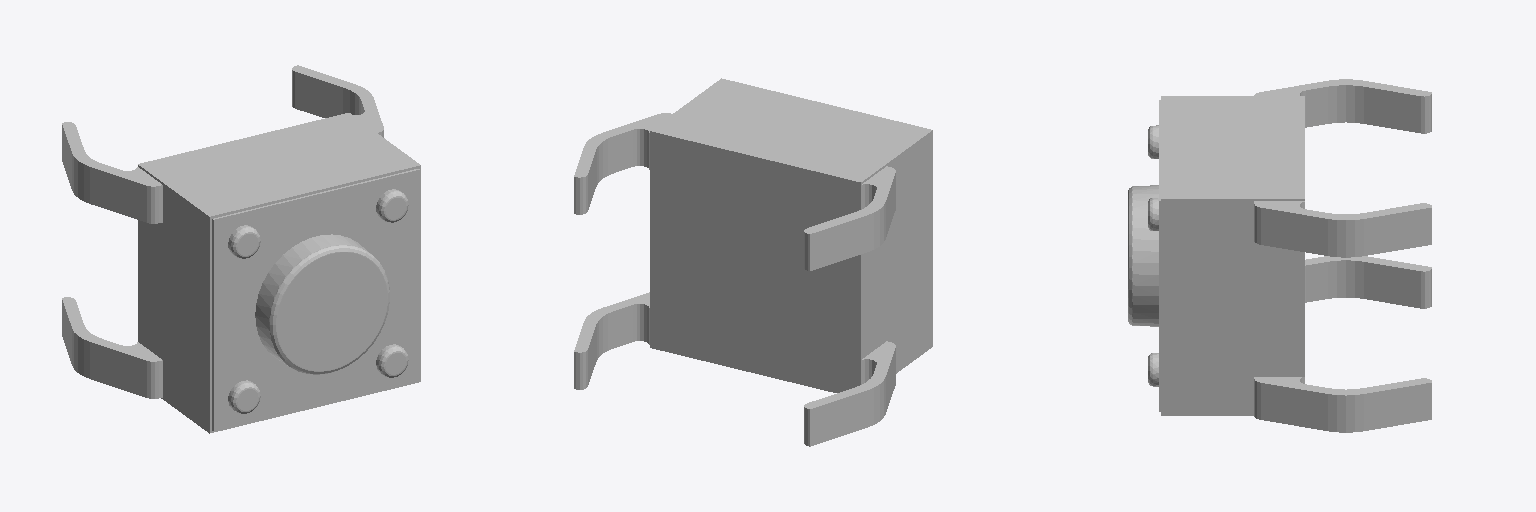
File: Tactal Switch -Thru (6mmx 6mmx4.5mm).obj
3 renders of one model, left to right at view 1: azimuth 30°, elevation 25°; view 2: azimuth 150°, elevation 25°; view 3: azimuth 270°, elevation 25°, orthographic.
Parts seen in each view (by area): view 1: Solid1; view 2: Solid1; view 3: Solid1.
Boxes of the visible parts, <box> form: Solid1: <box>62,65,420,433</box>; Solid1: <box>574,78,932,446</box>; Solid1: <box>1128,79,1431,432</box>.
Bounding box in the file's own units: 8.37 × 5.99 × 7.62.